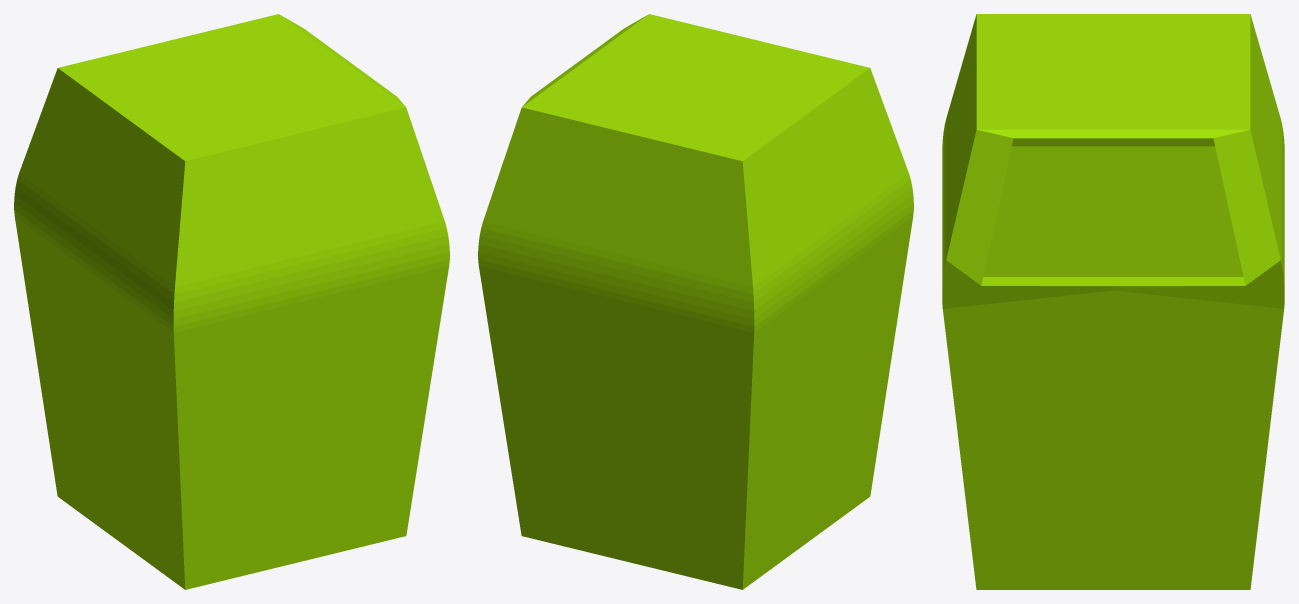
The model's file is TachoReciclable (1).fbx.
3 renders of one model, left to right at view 1: azimuth 30°, elevation 25°; view 2: azimuth 150°, elevation 25°; view 3: azimuth 270°, elevation 25°, orthographic. The views are drawn at different scales.
Parts seen in each view (by area): view 1: Cube; view 2: Cube; view 3: Cube.
Boxes of the visible parts, x1,y1,x2,y2 form: Cube: [14, 14, 449, 589]; Cube: [478, 14, 913, 589]; Cube: [942, 14, 1284, 589].
Bounding box in the file's own units: 91.22 × 132 × 89.17.
